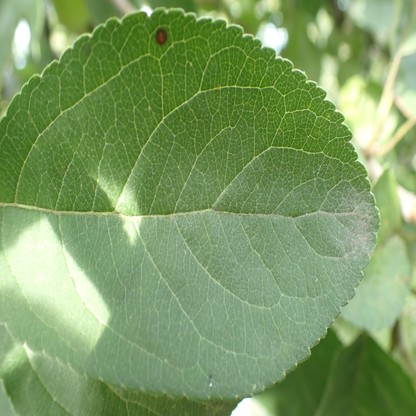frogeye_leaf_spot: (156, 25, 168, 45)
powdery_mildew: (342, 190, 373, 258)
